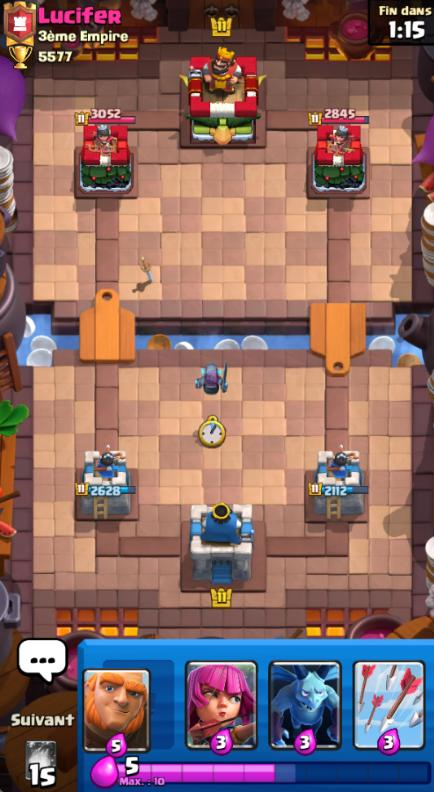mini_PEKKA: (190, 356, 240, 399)
